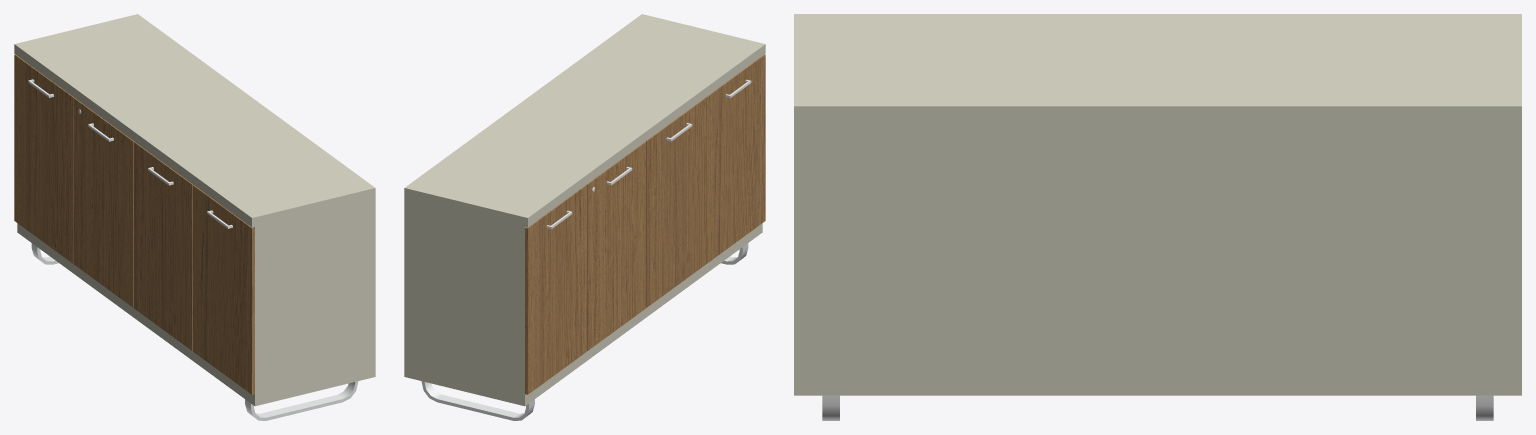
Rendered from Credenzas.fbx.
3 views of the same model, side by side, from view 1: azimuth 30°, elevation 25°; view 2: azimuth 150°, elevation 25°; view 3: azimuth 270°, elevation 25° (orthographic). The views are drawn at different scales.
Visible parts, largest first — view 1: Credenzas1; view 2: Credenzas1; view 3: Credenzas1.
Boxes of the visible parts, x1,y1,x2,y2 form: Credenzas1: (14,14,375,420); Credenzas1: (404,14,765,420); Credenzas1: (794,14,1521,420).
Bounding box in the file's own units: 47.55 × 76.2 × 152.
